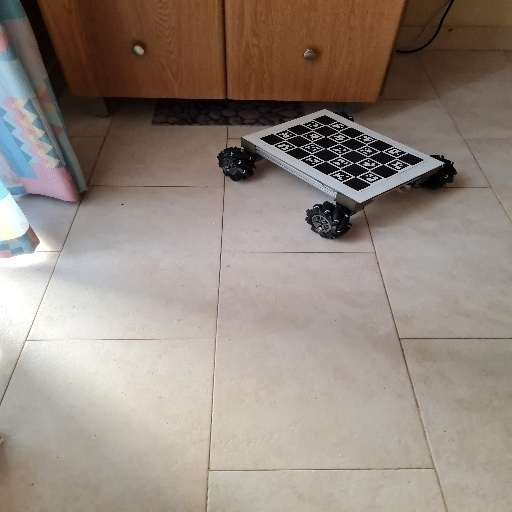Omniwheel: (218, 109, 459, 238)
